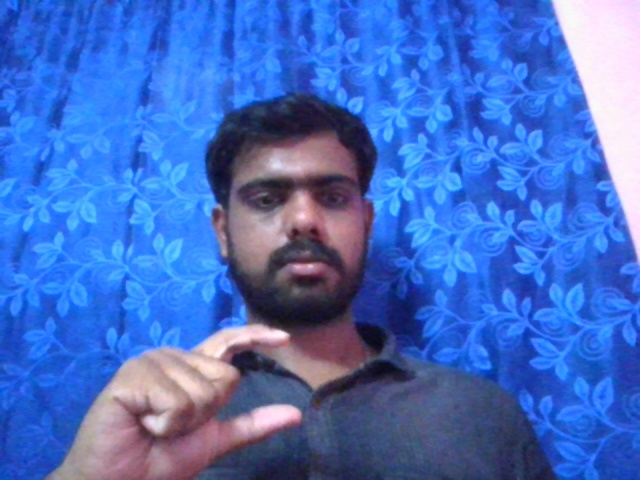No: (57, 311, 316, 472)
